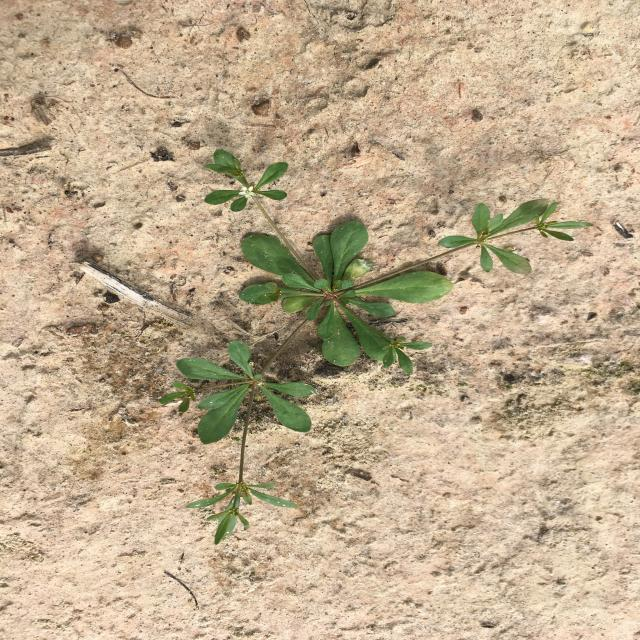Carpetweed: (158, 150, 594, 546)
